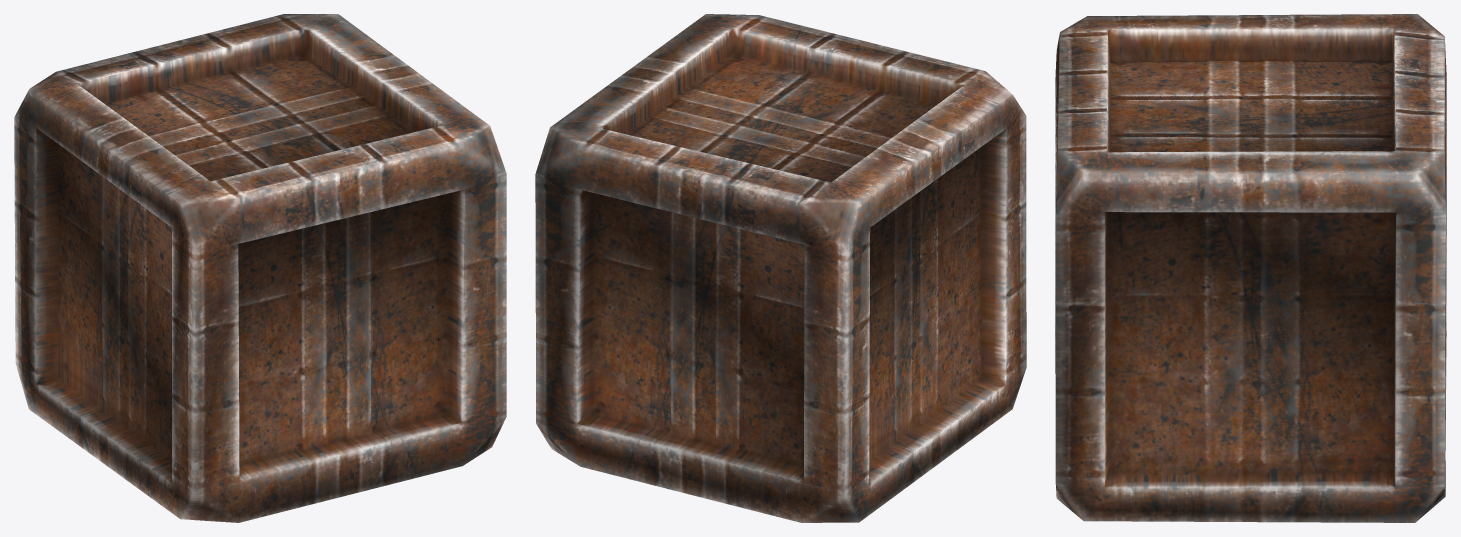
3 views of the same model, side by side, from view 1: azimuth 30°, elevation 25°; view 2: azimuth 150°, elevation 25°; view 3: azimuth 270°, elevation 25° (orthographic). The views are drawn at different scales.
Visible parts, largest first — view 1: RetopoGroup1; view 2: RetopoGroup1; view 3: RetopoGroup1.
Part boxes in pixels (x1,y1,x2,y2): RetopoGroup1: (14,14,506,522); RetopoGroup1: (535,14,1026,522); RetopoGroup1: (1055,14,1446,522).
Bounding box in the file's own units: 149 × 149 × 150.
